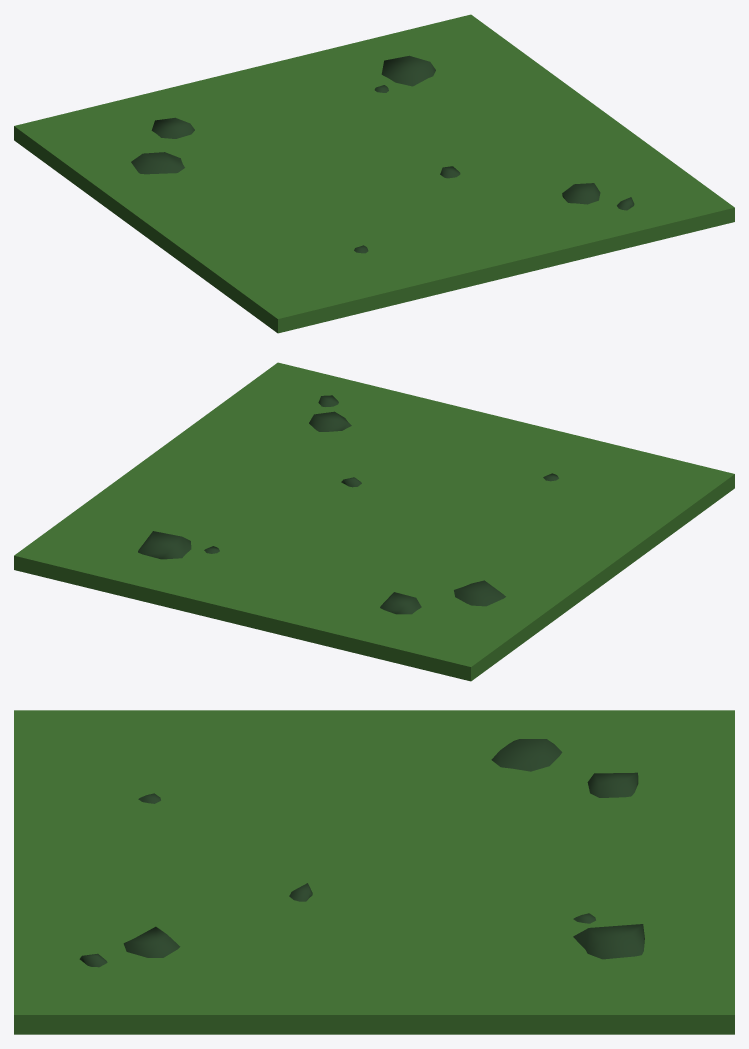
Rendered from floor_moss.fbx.
3 views of the same model, one above another, from view 1: azimuth 30°, elevation 25°; view 2: azimuth 150°, elevation 25°; view 3: azimuth 270°, elevation 25° (orthographic). The views are drawn at different scales.
Visible parts, largest first — view 1: floor_moss; view 2: floor_moss; view 3: floor_moss.
Part boxes in pixels (box(x1,y1,x2,y2)): floor_moss: box(14, 14, 734, 333); floor_moss: box(14, 362, 734, 681); floor_moss: box(14, 710, 734, 1034).
Bounding box in the file's own units: 400 × 20.86 × 400.
